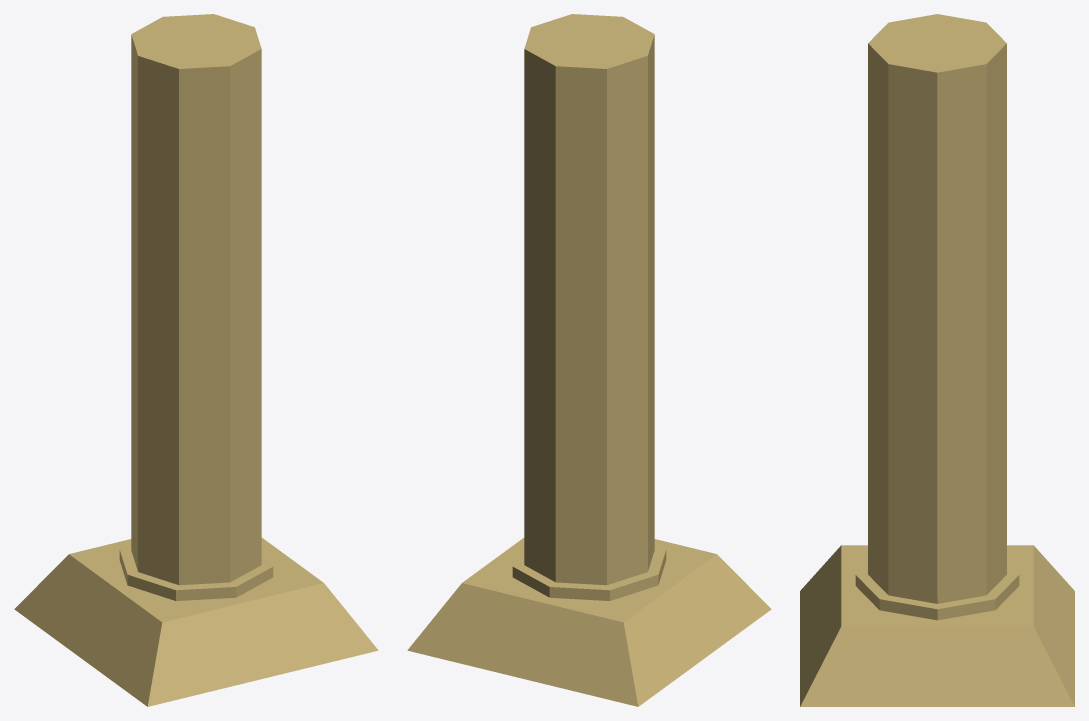
Rendered from Ruins_Pillar_01.fbx.
3 renders of one model, left to right at view 1: azimuth 30°, elevation 25°; view 2: azimuth 150°, elevation 25°; view 3: azimuth 270°, elevation 25°, orthographic. The views are drawn at different scales.
Parts seen in each view (by area): view 1: Ruins_Pillar_01; view 2: Ruins_Pillar_01; view 3: Ruins_Pillar_01.
Part boxes in pixels (x1,y1,x2,y2): Ruins_Pillar_01: (14, 14, 378, 706); Ruins_Pillar_01: (407, 14, 771, 706); Ruins_Pillar_01: (800, 14, 1074, 706).
Bounding box in the file's own units: 63.15 × 154 × 63.15.
